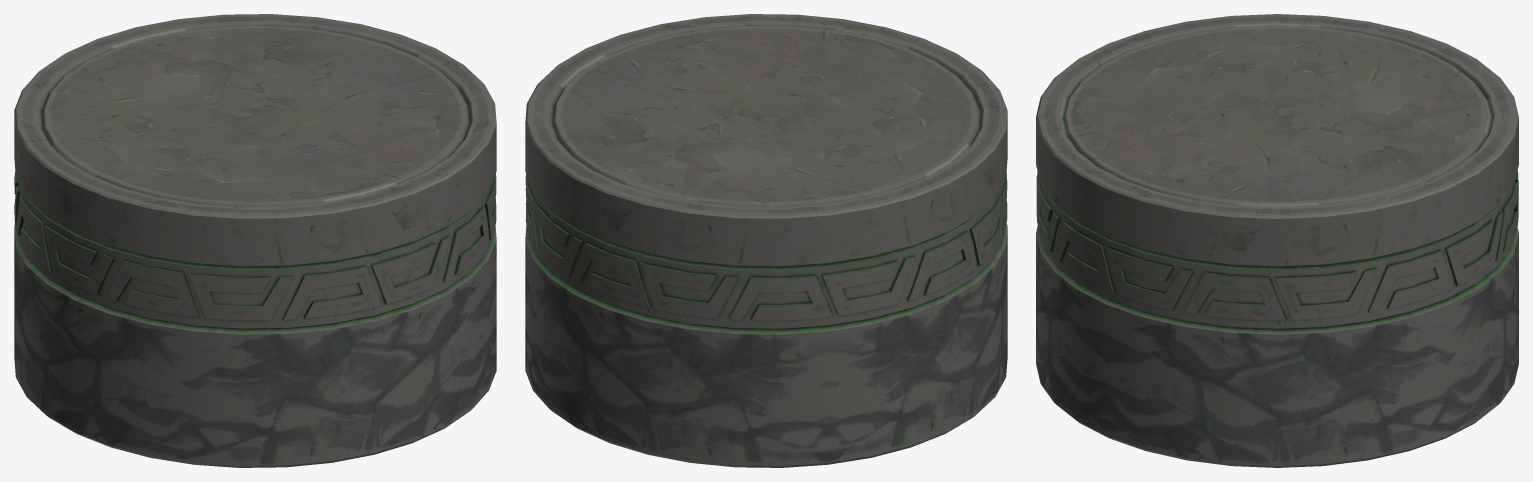
Rendered from baseCilindroCrash.obj.
The picture shows the model from 3 angles, left to right: view 1: azimuth 30°, elevation 25°; view 2: azimuth 150°, elevation 25°; view 3: azimuth 270°, elevation 25°; orthographic projection.
Parts seen in each view (by area): view 1: cyllinder_paint; view 2: cyllinder_paint; view 3: cyllinder_paint.
Boxes of the visible parts, <box> form: cyllinder_paint: <box>14,14,496,467</box>; cyllinder_paint: <box>525,14,1007,467</box>; cyllinder_paint: <box>1036,14,1518,467</box>.
Size of the model in its own units: 1.8 by 1.04 by 1.8.
